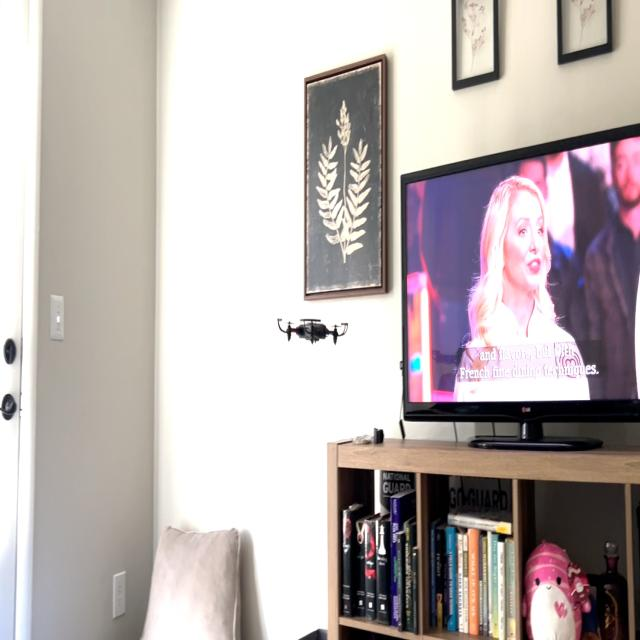drone: (268, 300, 356, 360)
